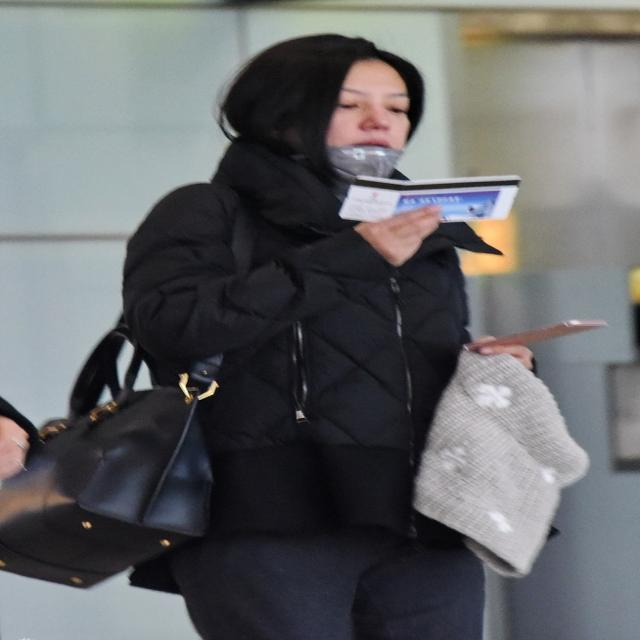mask: (312, 59, 410, 177)
